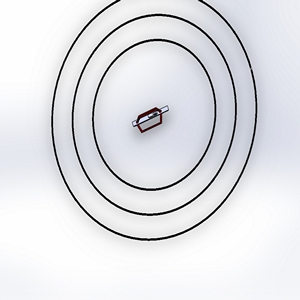circle: (46, 1, 269, 247)
submarine: (127, 94, 177, 143)
